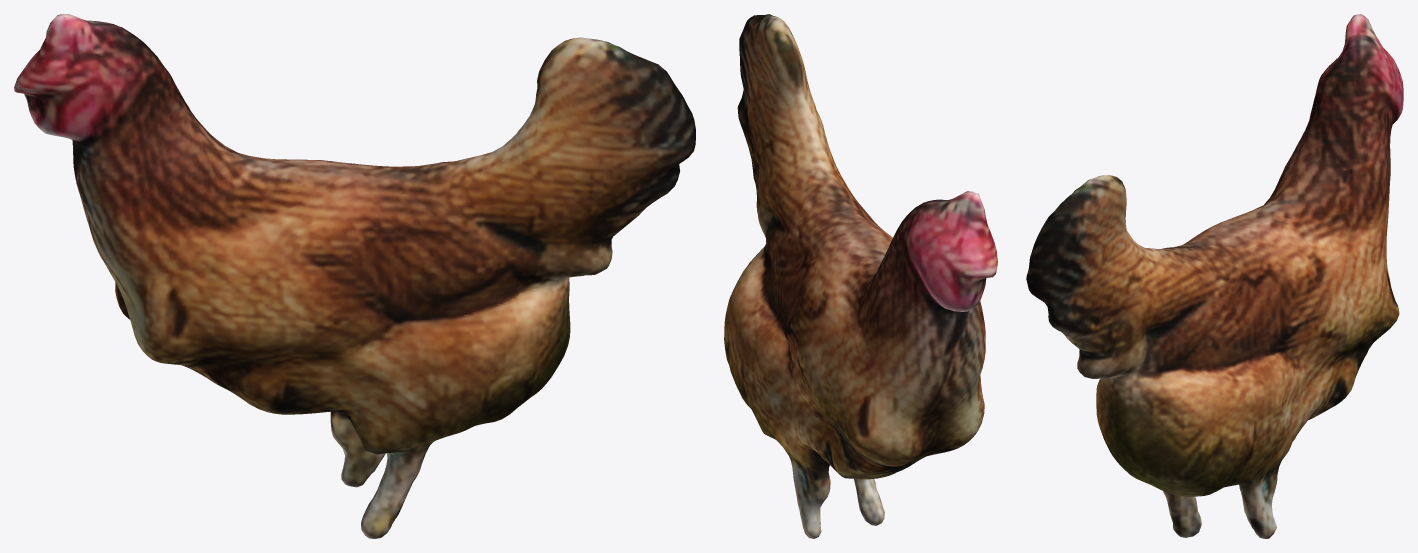
The model's file is adulto.glb.
3 views of the same model, side by side, from view 1: azimuth 30°, elevation 25°; view 2: azimuth 150°, elevation 25°; view 3: azimuth 270°, elevation 25° (orthographic). The views are drawn at different scales.
Visible parts, largest first — view 1: mesh; view 2: mesh; view 3: mesh.
Boxes of the visible parts, x1,y1,x2,y2 form: mesh: (14,14,695,538); mesh: (724,14,997,538); mesh: (1026,14,1403,538).
Size of the model in its own units: 1.38 by 1.37 by 1.08.
Materials: 1 (1 with a texture image).
